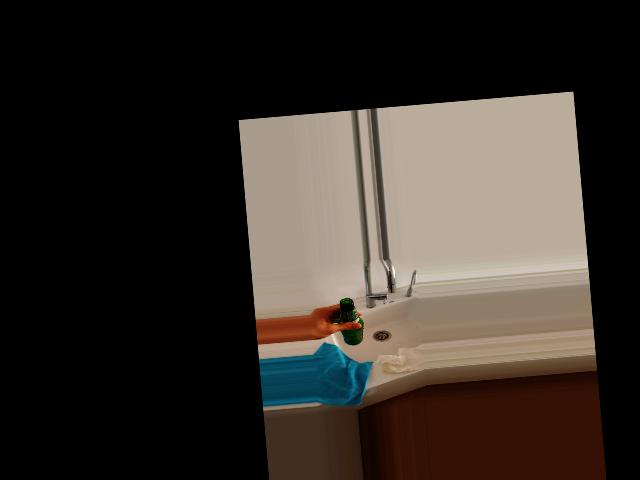beer: (335, 297, 365, 347)
